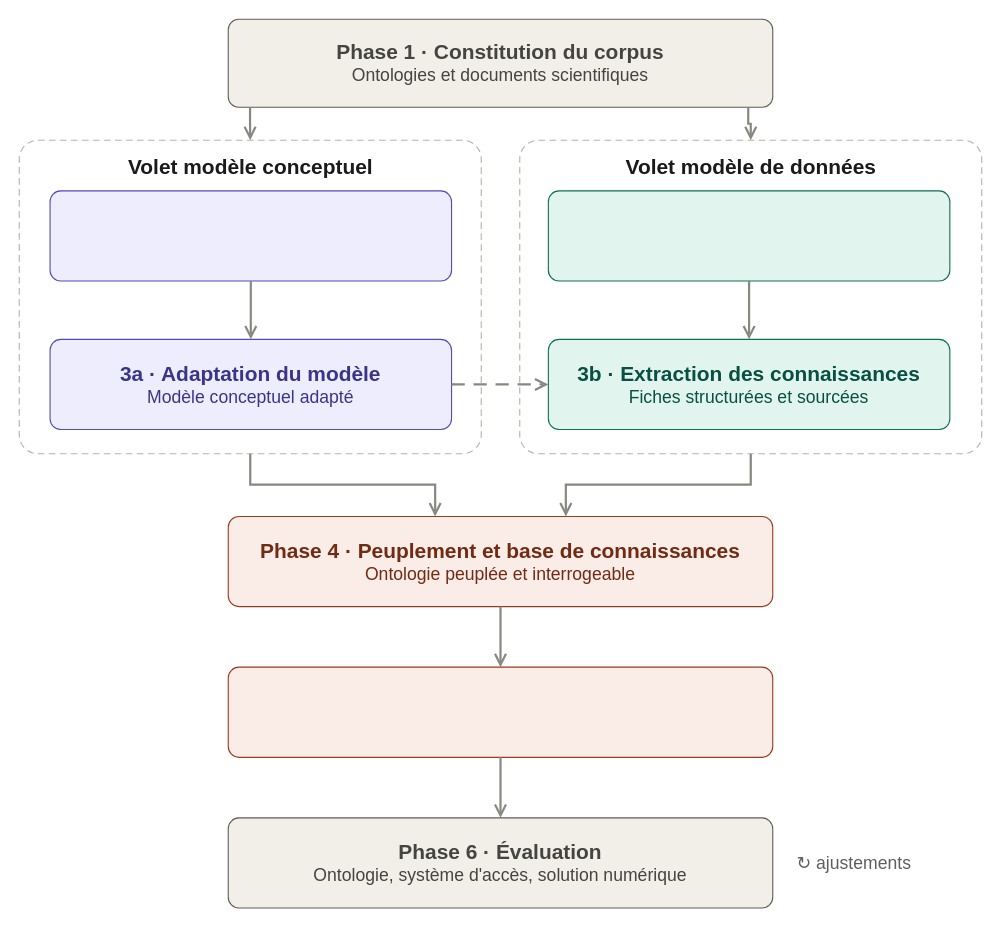
Image size: 1001x927. Some labels were removed from this diagram. Here are the shapes that lost their labels. From the top down, the centre of each, then its label:
At point 250,235: "2a · Étude comparative Sélection de l'ontologie".
At point 748,235: "2b · Sélection des documents Critères d'inclusion".
At point 500,711: "Phase 5 · Dispositif numérique Système d'accès intelligent et solution numérique".
